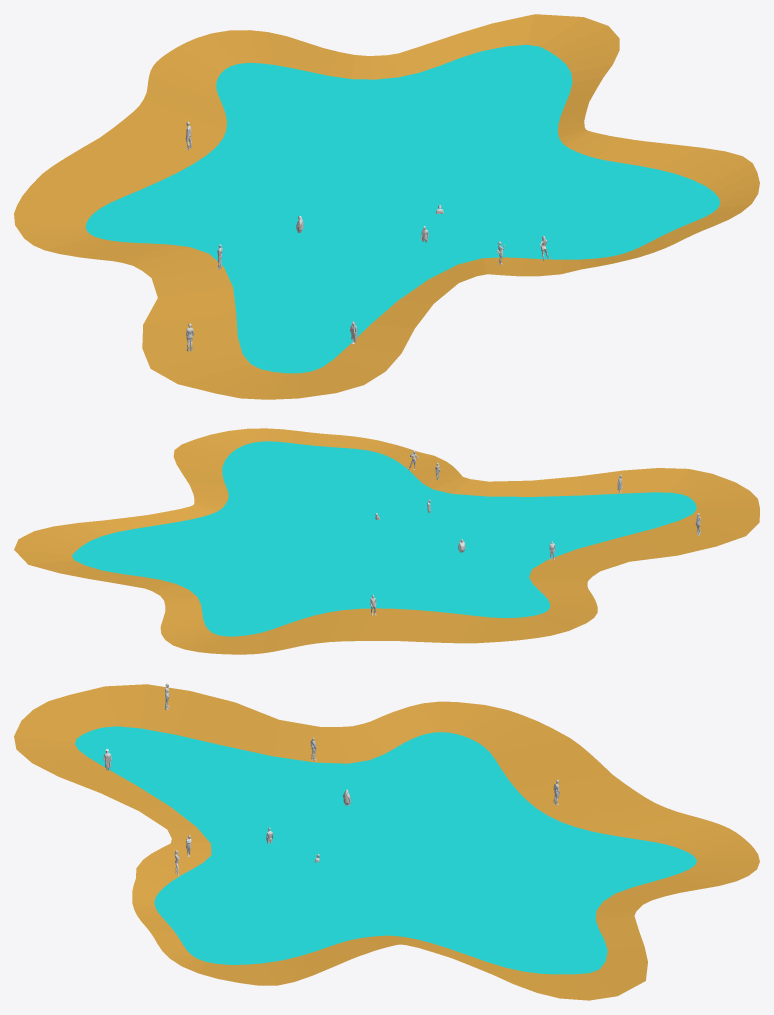
File: parque_azul.fbx
3 views of the same model, one above another, from view 1: azimuth 30°, elevation 25°; view 2: azimuth 150°, elevation 25°; view 3: azimuth 270°, elevation 25° (orthographic). The views are drawn at different scales.
Visible parts, largest first — view 1: lago, lago margens; view 2: lago, lago margens; view 3: lago, lago margens.
Boxes of the visible parts, box(x1,y1,x2,y2) form: lago: box(85, 44, 719, 373); lago margens: box(14, 14, 759, 399); lago: box(72, 441, 696, 636); lago margens: box(14, 428, 759, 654); lago: box(75, 726, 696, 974); lago margens: box(14, 684, 759, 1000).
Size of the model in its own units: 5276 by 335 by 5258.
